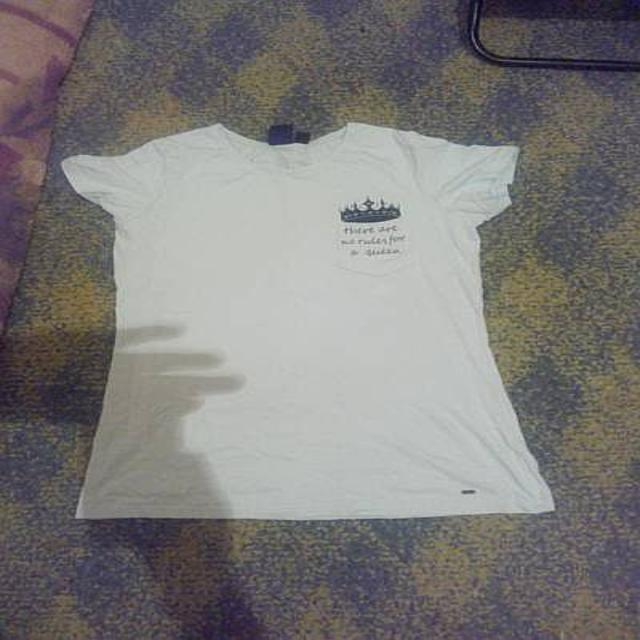T_SHIRT: (44, 110, 562, 534)
